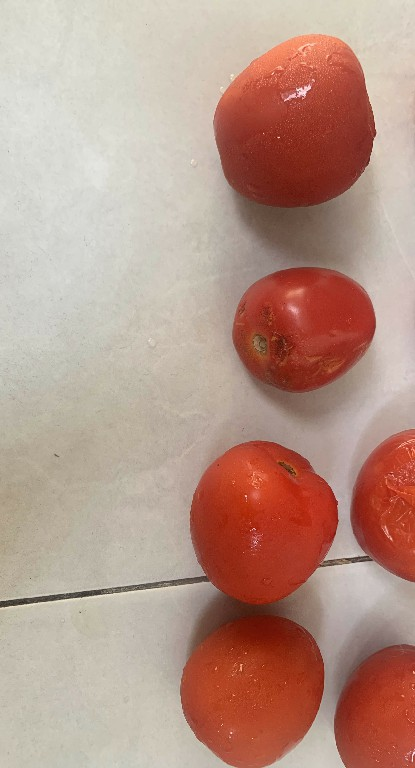NG: (226, 259, 390, 399)
OK: (201, 28, 387, 222), (180, 428, 357, 615), (165, 615, 335, 768)
